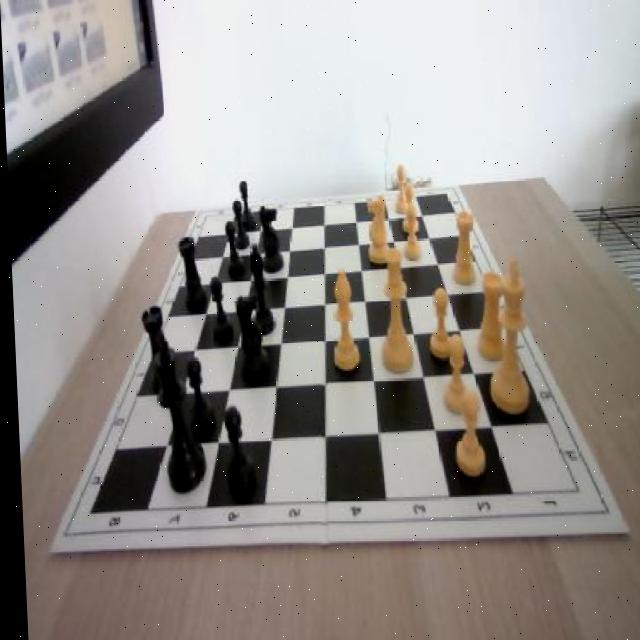bishop: (248, 243, 274, 340)
black-bishop: (151, 331, 203, 495)
black-king: (233, 295, 267, 387), (257, 203, 282, 273)
black-knight: (218, 409, 251, 497), (184, 354, 212, 439), (207, 274, 232, 344), (223, 223, 242, 279), (236, 182, 254, 233), (229, 200, 247, 248)
black-queen: (137, 303, 175, 394), (176, 234, 205, 311)
black-rook: (325, 268, 357, 370)
white-bishop: (482, 260, 533, 414)
white-king: (364, 196, 391, 266)
white-knight: (448, 391, 484, 480), (433, 335, 465, 418), (424, 286, 452, 358), (399, 204, 420, 260), (400, 182, 417, 234), (393, 163, 407, 213)
white-pawn: (375, 246, 412, 373)
white-queen: (471, 272, 505, 361), (447, 210, 475, 288)
